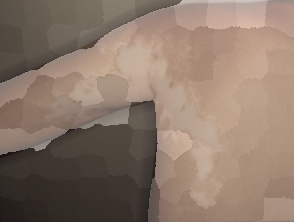vitiligo: (36, 0, 287, 222)
